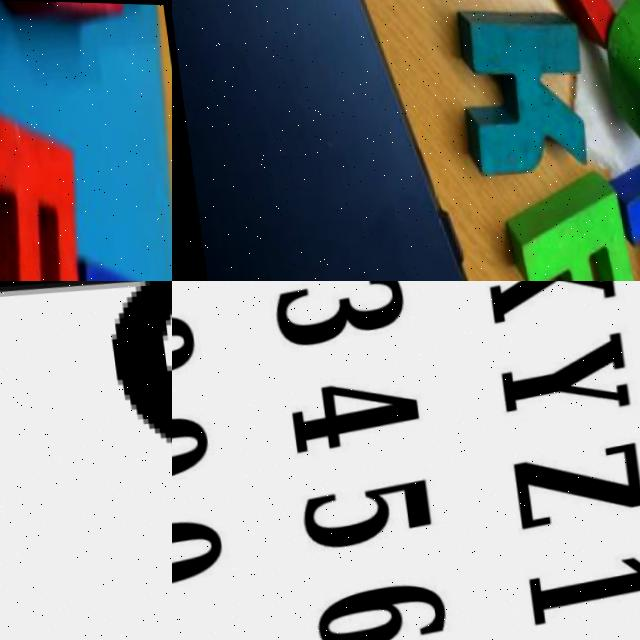0: (172, 494, 252, 609)
1: (511, 539, 640, 633)
3: (261, 281, 431, 358)
4: (272, 357, 428, 464)
5: (290, 454, 444, 560)
6: (295, 554, 483, 640)
8: (172, 298, 215, 399)
9: (172, 394, 231, 503)
C: (597, 0, 640, 159)
E: (0, 53, 108, 281)
F: (501, 185, 635, 281)
K: (442, 11, 594, 199)
